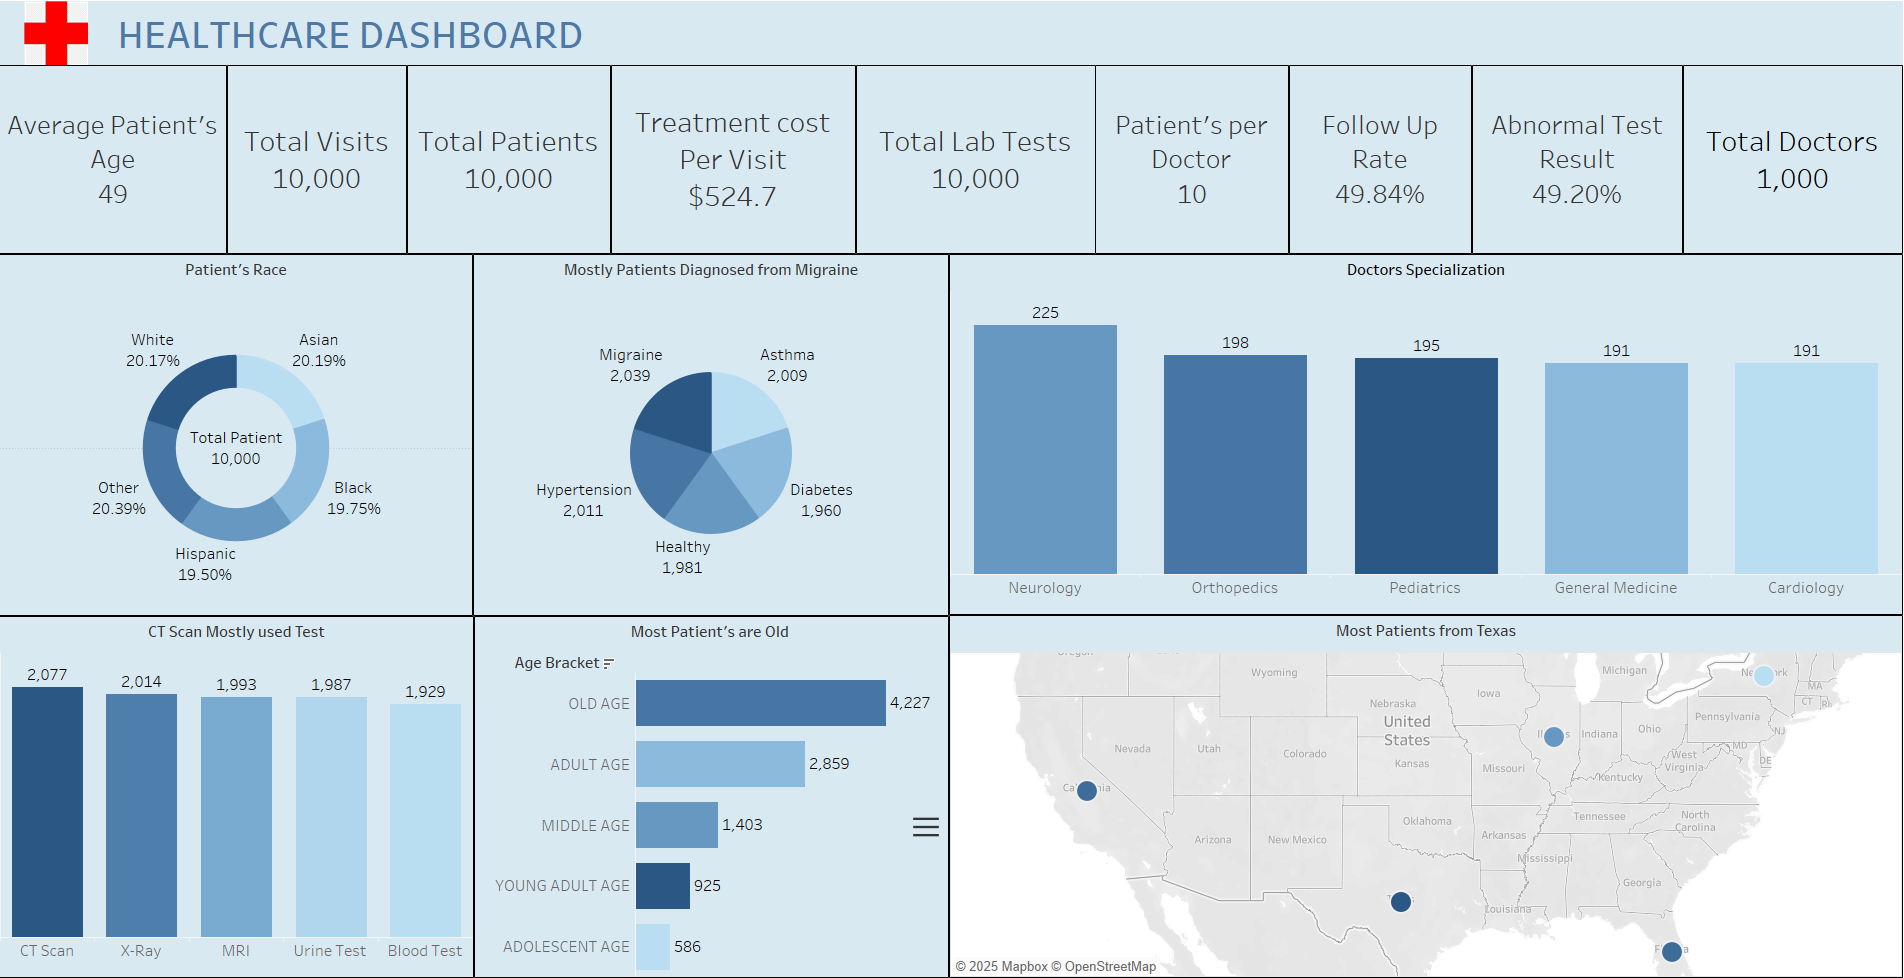

The dashboard page shown, as its layout file describes it:
{"tool":"tableau","page":{"name":"Dashboard 1","canvas":[1000,1000],"units":"permille","ordinal":0},"visuals":[{"type":"image","param":"Image/PLUS IMAGE.png","box":[4.9,10.7,59.9,63.8]},{"type":"text","box":[64.8,10.7,930.3,63.8]},{"type":"worksheet","title":"avg.age","mark":"Automatic","box":[4.9,74.5,118.5,189.4]},{"type":"worksheet","title":"t.visit","mark":"Automatic","box":[123.4,74.5,93.5,189.4]},{"type":"worksheet","title":"t.patient","mark":"Automatic","box":[216.9,74.5,106.2,189.4]},{"type":"worksheet","title":"avg.cost","mark":"Automatic","box":[323.1,74.5,127.4,189.4]},{"type":"worksheet","title":"t.lab test","mark":"Automatic","box":[450.5,74.5,124.6,189.4]},{"type":"worksheet","title":"avg.patient.doctor","mark":"Automatic","box":[575.1,74.5,100.8,189.4]},{"type":"worksheet","title":"Sheet 13","mark":"Automatic","box":[675.9,74.5,95.1,189.4]},{"type":"worksheet","title":"Sheet 14","mark":"Automatic","box":[771,74.5,109.9,189.4]},{"type":"worksheet","title":"t.doctors","mark":"Automatic","box":[880.9,74.5,114.2,189.4]},{"type":"worksheet","title":"race patient","mark":"Pie","rows":["Calculation_155374252193222656","Calculation_155374252193222656"],"box":[4.9,264,246.6,362.6]},{"type":"worksheet","title":"gender wise ","mark":"Pie","box":[251.5,264,247.6,362.6]},{"type":"worksheet","title":"Specail Doctors","mark":"Automatic","rows":["Doctor ID (Doctor)"],"cols":["Specialization"],"box":[499,264,496.1,361.7]},{"type":"worksheet","title":"map","mark":"Automatic","box":[499,625.7,496.1,363.6]},{"type":"worksheet","title":"Sheet 15","mark":"Automatic","rows":["Lab Result ID (Lab result)"],"cols":["Test Name (Lab result)"],"box":[4.9,626.5,246.9,362.8]},{"type":"worksheet","title":"age brackett","mark":"Automatic","rows":["AGE BRACKET"],"cols":["Patient_0AD44639E9F44357B3192F0F20752DE1"],"box":[251.8,626.5,247.2,362.8]},{"type":"dashboard-object","box":[479.9,823.3,14.6,32.1]},{"type":"filter","title":"map","param":"[federated.1q540hh17npn7m1gwxwq714i9x04].[none:State:nk]","box":[411,828.6,85.4,61.4]},{"type":"filter","title":"age brackett","param":"[federated.1q540hh17npn7m1gwxwq714i9x04].[none:Gender (Patient):nk]","box":[411,890.1,85.4,61.4]}]}

Visuals, with their boxes on the dashboard's canvas, which has no fixed pixel size, in thousandths of its width and height (x1, y1, x2, y2). These are canvas units, not pixel positions in the 1904x978 screenshot, which may show the page scaled, cropped or inside an application window:
image: select_region(5, 11, 65, 74)
text: select_region(65, 11, 995, 74)
"avg.age" worksheet: select_region(5, 74, 123, 264)
"t.visit" worksheet: select_region(123, 74, 217, 264)
"t.patient" worksheet: select_region(217, 74, 323, 264)
"avg.cost" worksheet: select_region(323, 74, 450, 264)
"t.lab test" worksheet: select_region(450, 74, 575, 264)
"avg.patient.doctor" worksheet: select_region(575, 74, 676, 264)
"Sheet 13" worksheet: select_region(676, 74, 771, 264)
"Sheet 14" worksheet: select_region(771, 74, 881, 264)
"t.doctors" worksheet: select_region(881, 74, 995, 264)
"race patient" worksheet (Pie marks): select_region(5, 264, 252, 627)
"gender wise " worksheet (Pie marks): select_region(252, 264, 499, 627)
"Specail Doctors" worksheet: select_region(499, 264, 995, 626)
"map" worksheet: select_region(499, 626, 995, 989)
"Sheet 15" worksheet: select_region(5, 626, 252, 989)
"age brackett" worksheet: select_region(252, 626, 499, 989)
dashboard-object: select_region(480, 823, 494, 855)
"map" filter: select_region(411, 829, 496, 890)
"age brackett" filter: select_region(411, 890, 496, 952)
